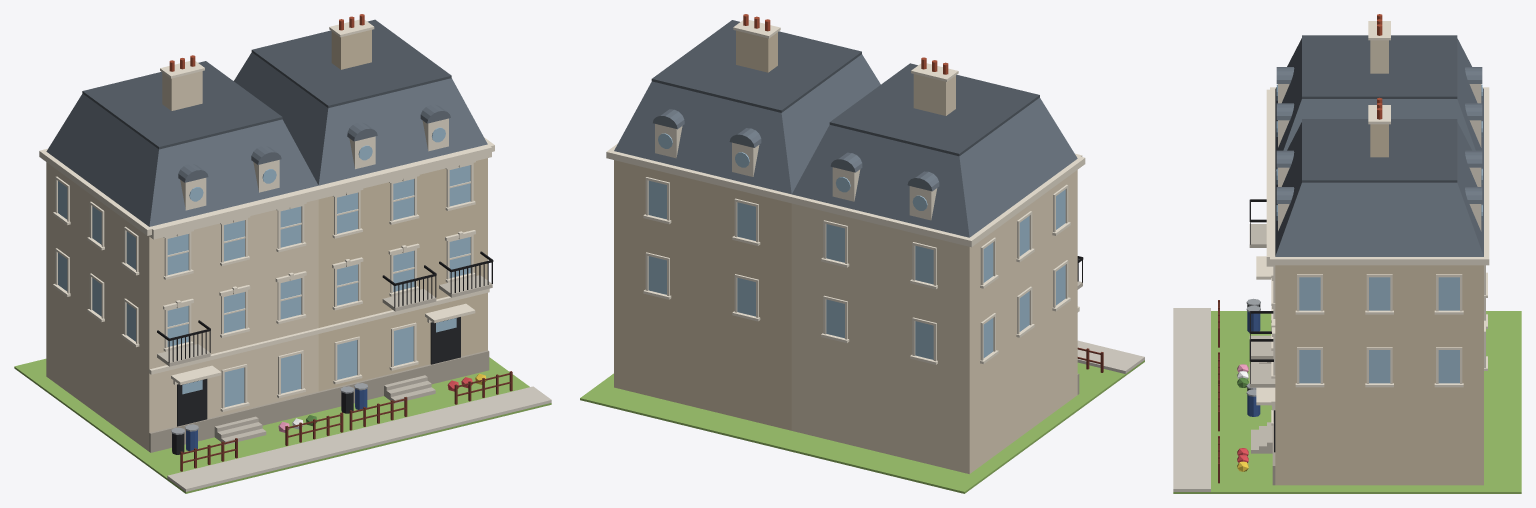
Rendered from Konut_ref_eski_sehir_Hafif.fbx.
The picture shows the model from 3 angles, left to right: view 1: azimuth 30°, elevation 25°; view 2: azimuth 150°, elevation 25°; view 3: azimuth 270°, elevation 25°; orthographic projection. The views are drawn at different scales.
Parts seen in each view (by area): view 1: Konut_ref_eski_sehir_Hafif; view 2: Konut_ref_eski_sehir_Hafif; view 3: Konut_ref_eski_sehir_Hafif.
Part boxes in pixels (x1,y1,x2,y2): Konut_ref_eski_sehir_Hafif: [14, 14, 551, 493]; Konut_ref_eski_sehir_Hafif: [580, 14, 1144, 493]; Konut_ref_eski_sehir_Hafif: [1173, 14, 1521, 493].
Size of the model in its own units: 16 by 14.06 by 13.
